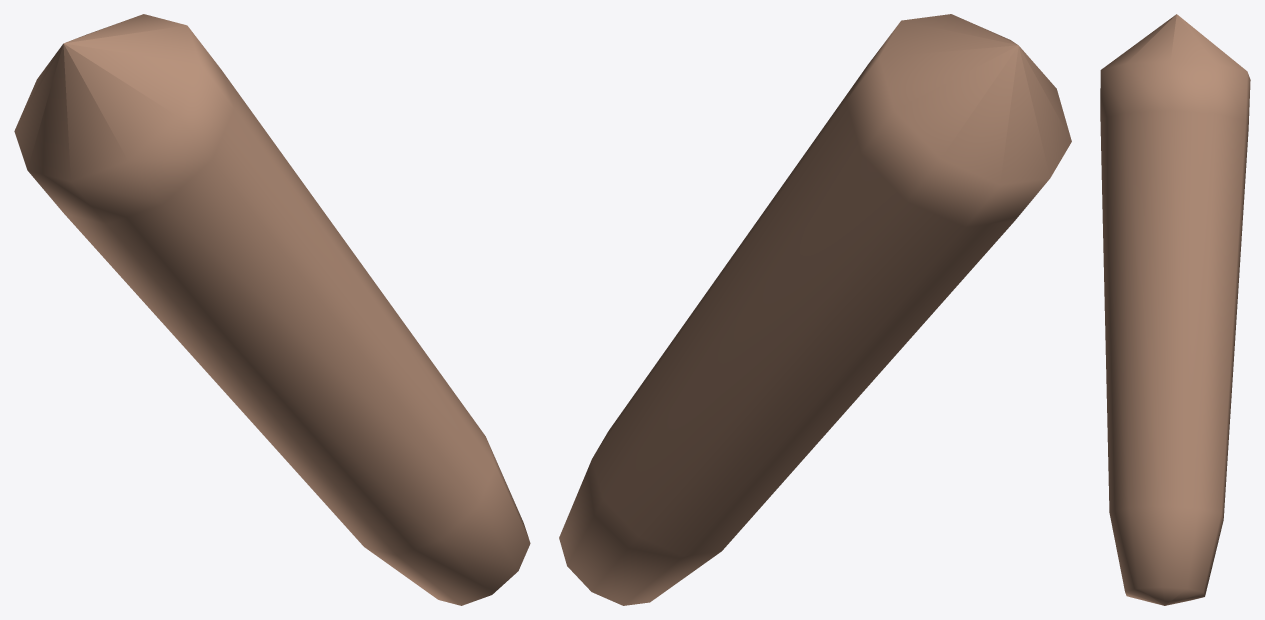
Rendered from forearm_L.obj.
The picture shows the model from 3 angles, left to right: view 1: azimuth 30°, elevation 25°; view 2: azimuth 150°, elevation 25°; view 3: azimuth 270°, elevation 25°; orthographic projection. The views are drawn at different scales.
Visible parts, largest first — view 1: forearm_L; view 2: forearm_L; view 3: forearm_L.
Part boxes in pixels (left/top/right/bottom): forearm_L: left=14, top=14, right=530, bottom=605; forearm_L: left=559, top=14, right=1071, bottom=605; forearm_L: left=1100, top=14, right=1250, bottom=605.
Bounding box in the file's own units: 0.2228 × 0.2825 × 0.0837.
